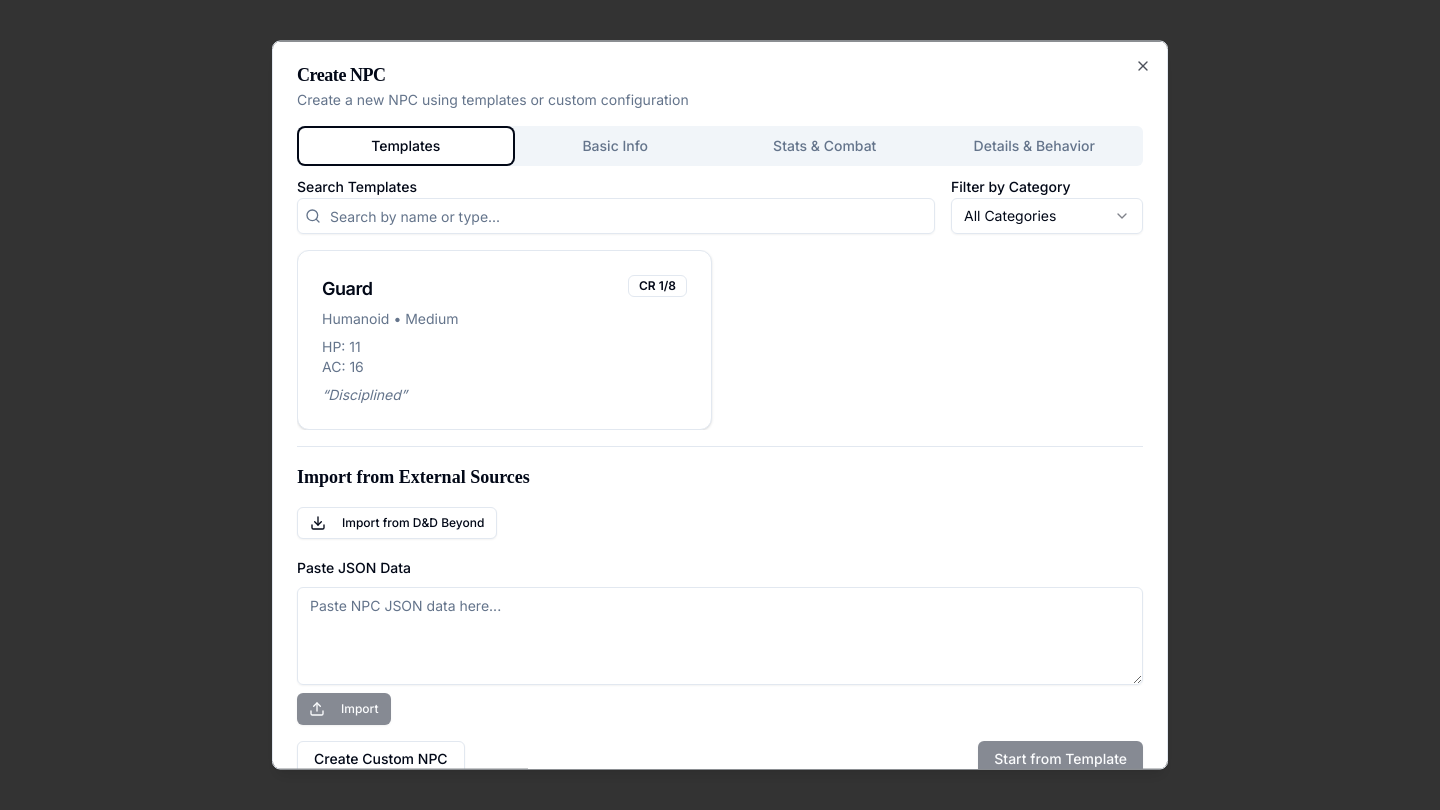
it: NPCCreationForm › Details Tab › shows details form when tab is clicked
The image size is (1440, 810).
Click the tab "Details & Behavior" at (1034, 146), box [930,130,1139,162]
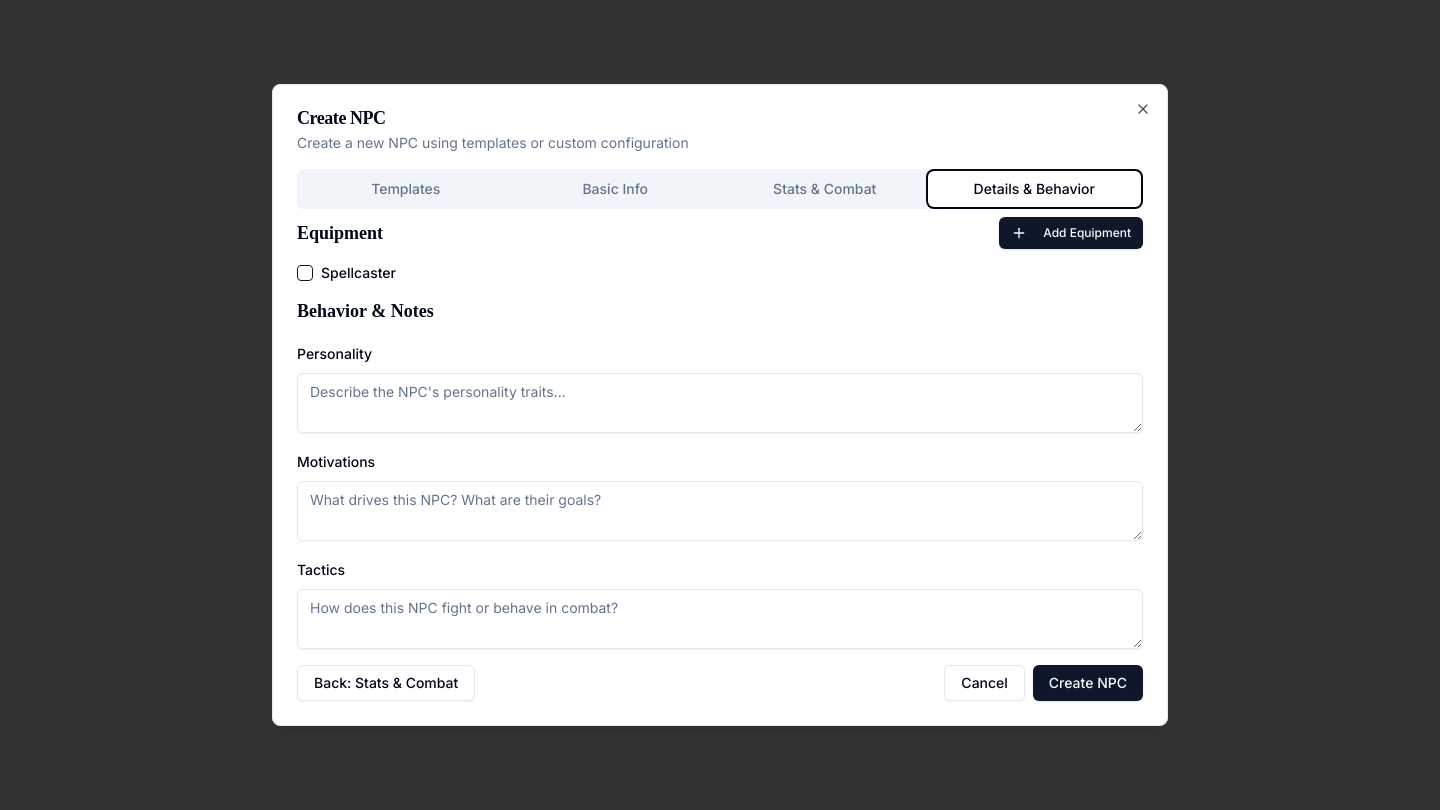
Expected: the text box labelled "Personality" is shown, [297,373,1143,433]
Expected: the text box labelled "Motivations" is shown, [297,481,1143,541]
Expected: the text box labelled "Tactics" is shown, [297,589,1143,649]
